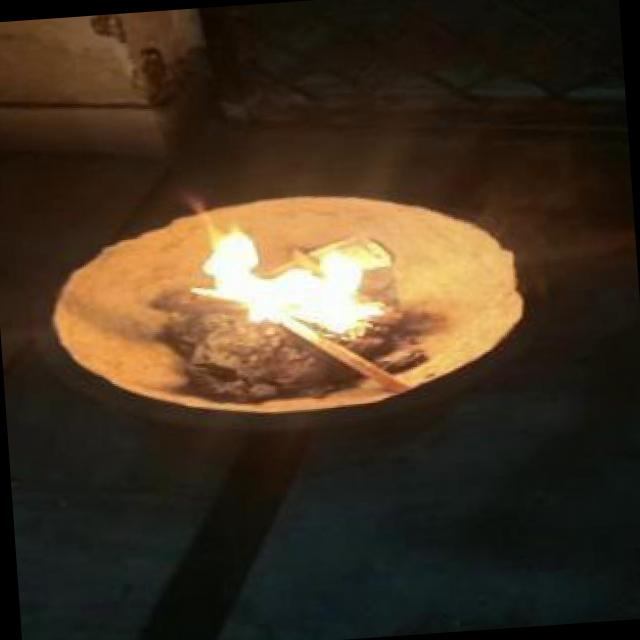fire: (193, 210, 406, 348)
